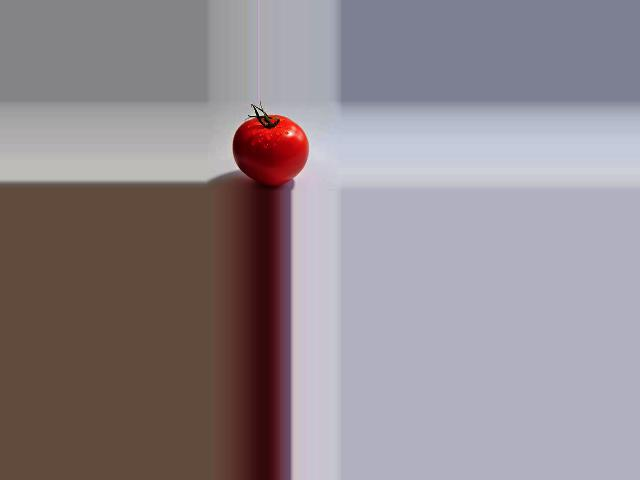tomato: (233, 116, 309, 186)
